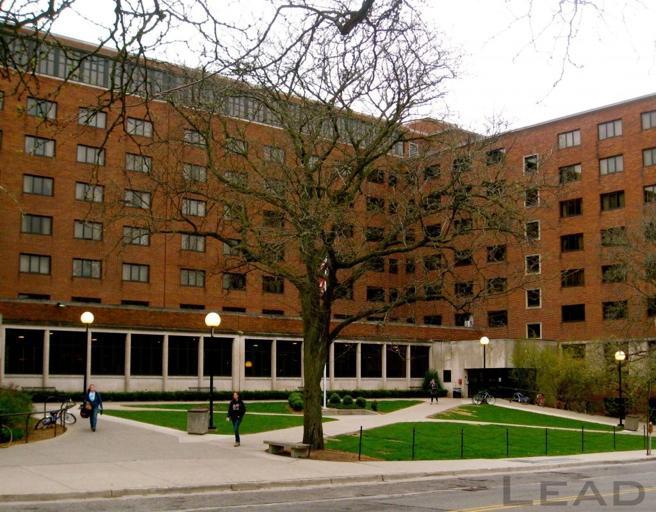non-vehicle: (32, 398, 78, 431), (469, 390, 496, 405), (0, 423, 12, 449)
